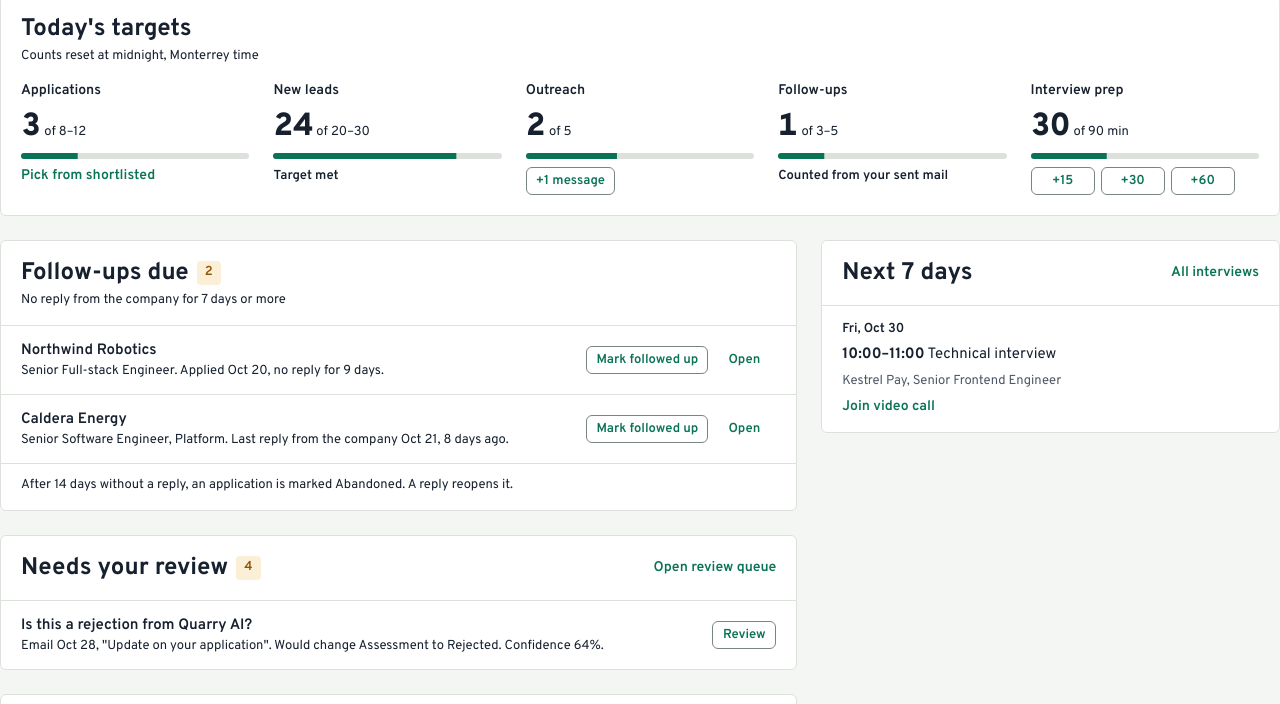
it: TodayPage › Mark followed up posts /applications/:id/follow-up-done and shows 'Marked as followed up'
(page scrolled)
Expected: the text "Northwind Robotics" is shown, [21,341,157,360]
Click the button "Mark followed up" in the row of "Northwind Robotics" at (647, 360), box [586,346,708,374]
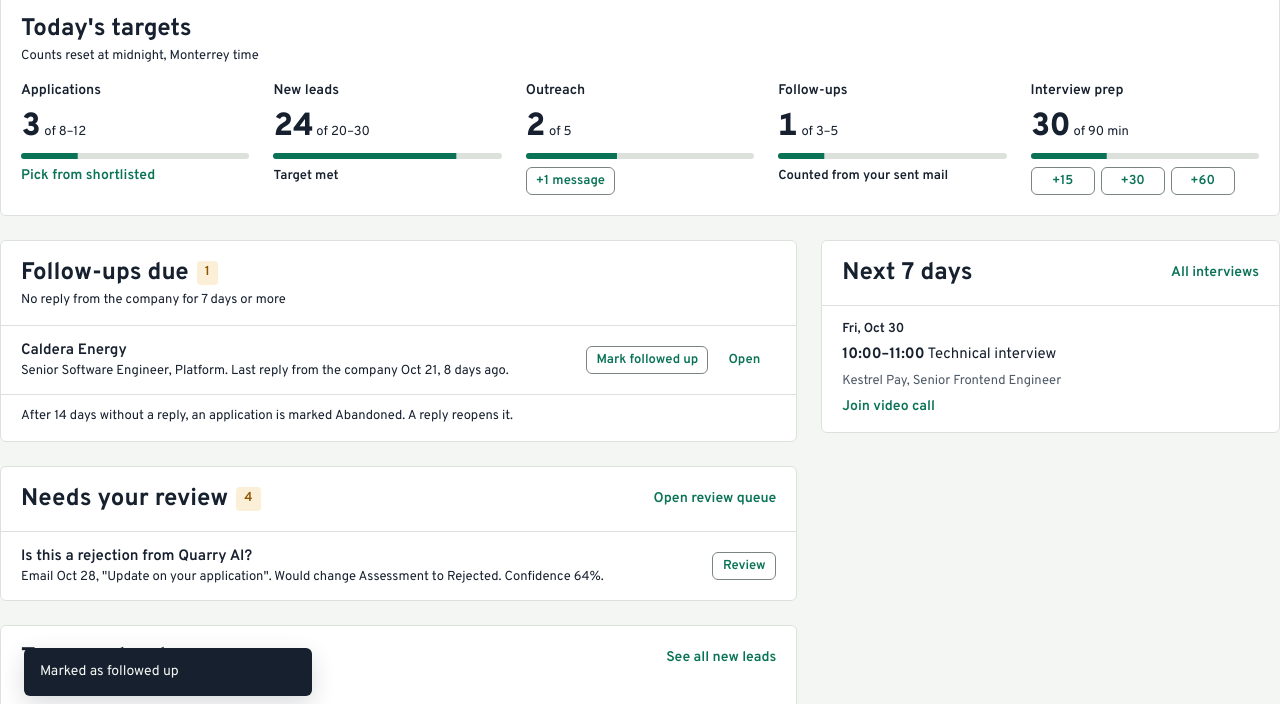
Expected: the text "Caldera Energy" is shown, [21,341,127,360]
Expected: the text "Marked as followed up" is shown, [40,663,179,680]
Expected: the text "Northwind Robotics" is gone
